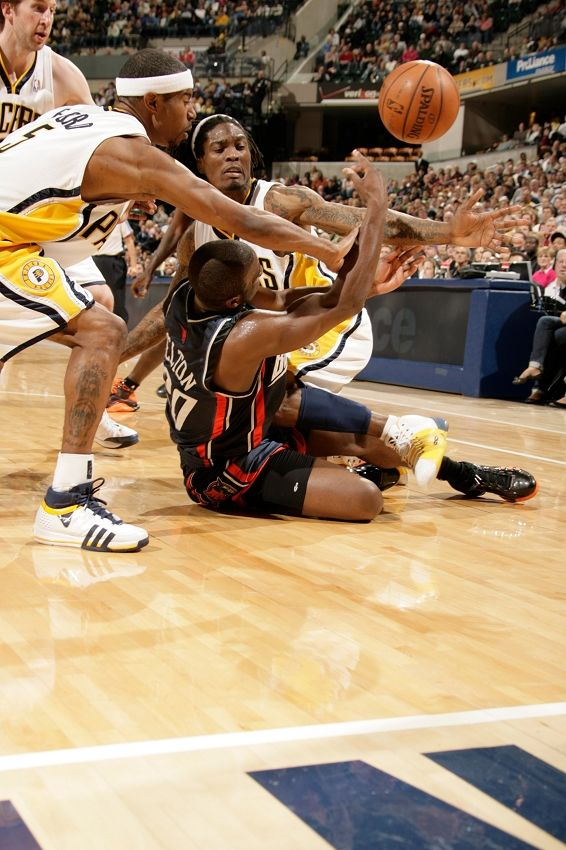10+: (3, 1, 566, 559)
down: (172, 144, 550, 532)
